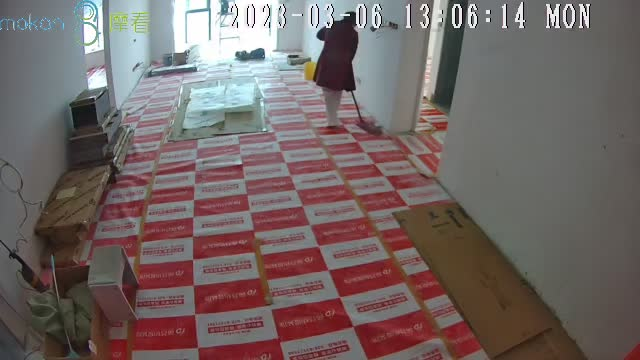people: (316, 10, 358, 127)
window: (179, 1, 274, 44)
